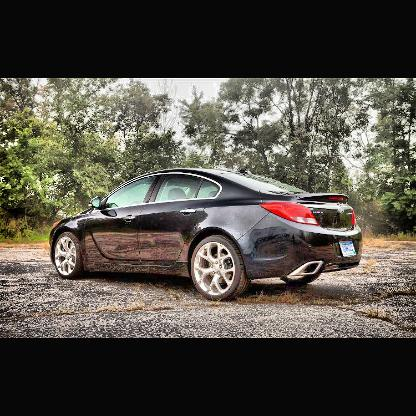Buick Regal GS 2012: (49, 166, 366, 303)
